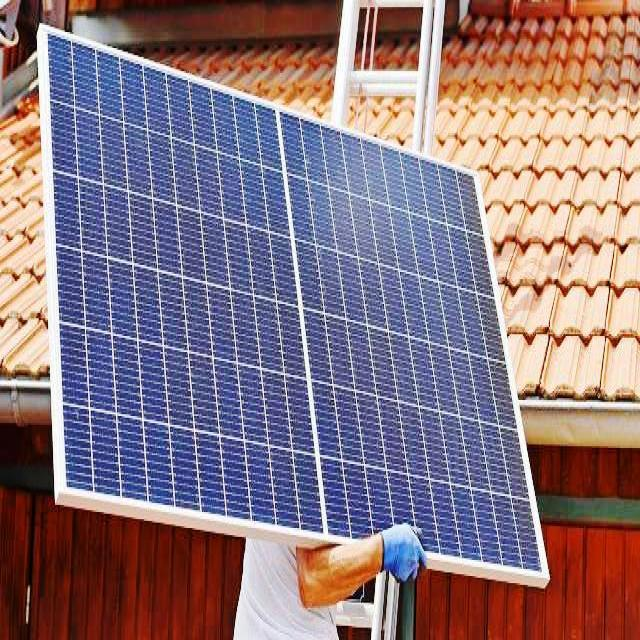no faulty: (43, 23, 545, 580)
